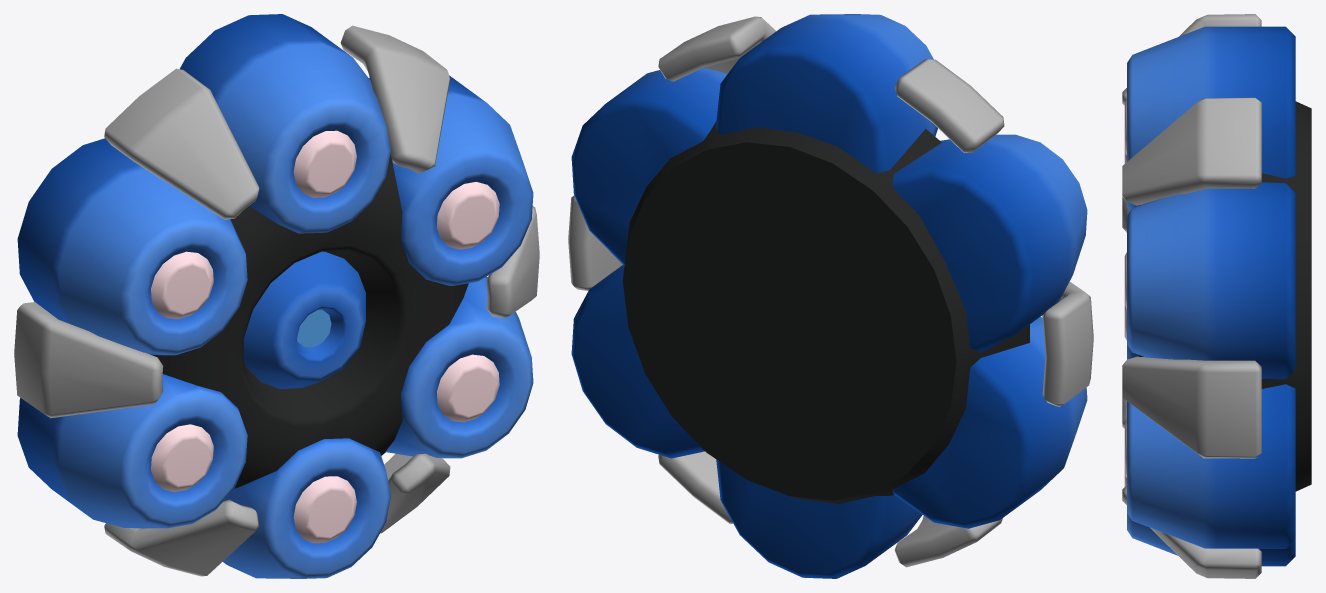
File: flower_001.fbx
The picture shows the model from 3 angles, left to right: view 1: azimuth 30°, elevation 25°; view 2: azimuth 150°, elevation 25°; view 3: azimuth 270°, elevation 25°; orthographic projection. The views are drawn at different scales.
Parts seen in each view (by area): view 1: flower_001; view 2: flower_001; view 3: flower_001.
Part boxes in pixels (x1,y1,x2,y2): flower_001: (14,14,539,578); flower_001: (568,14,1093,578); flower_001: (1122,14,1311,578).
Size of the model in its own units: 1054 by 352 by 1070.
